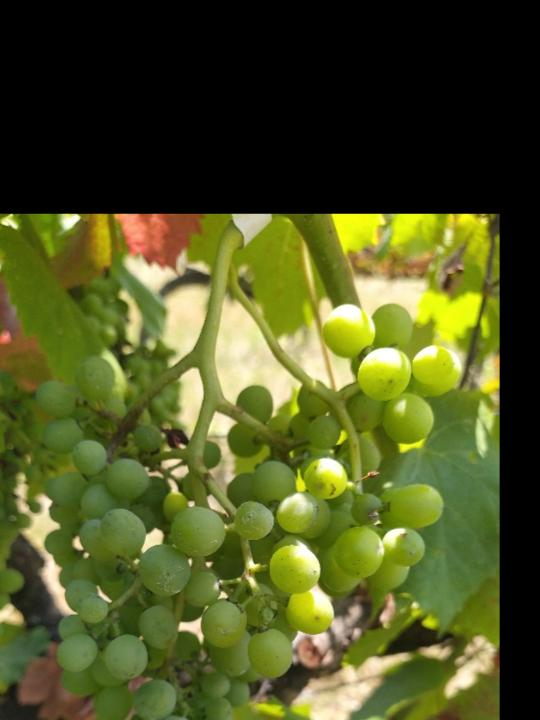grape: (36, 304, 465, 720)
